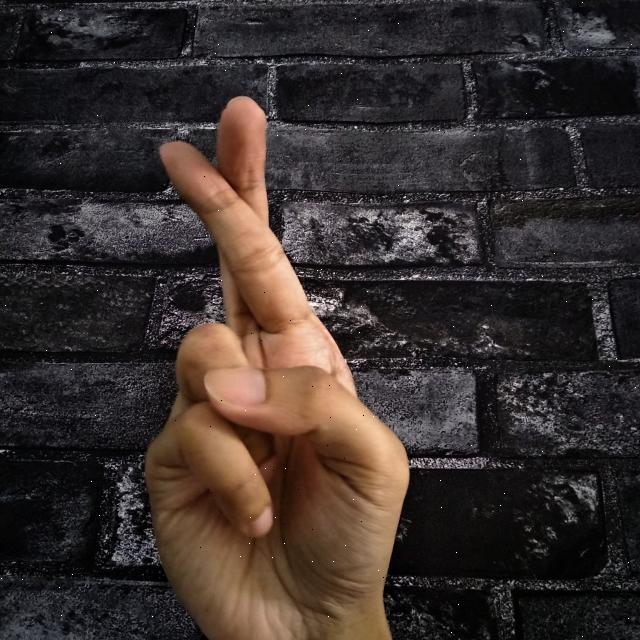R: (132, 85, 424, 640)
